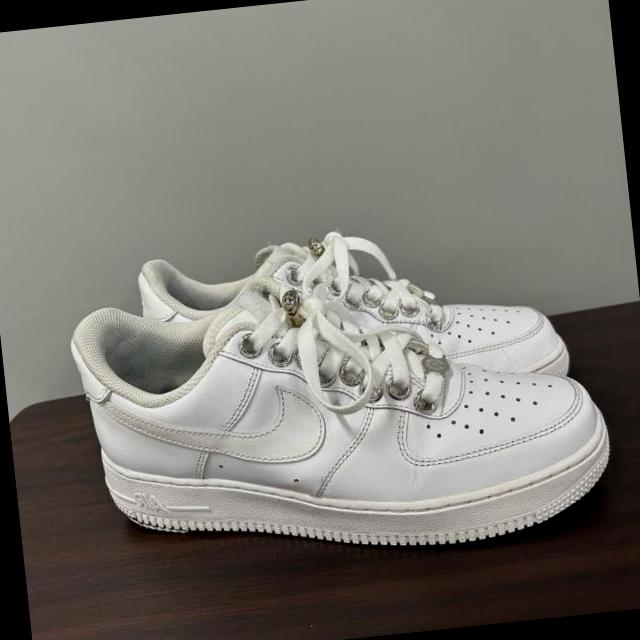nike_original_airforce: (79, 238, 626, 580), (134, 208, 572, 416)
